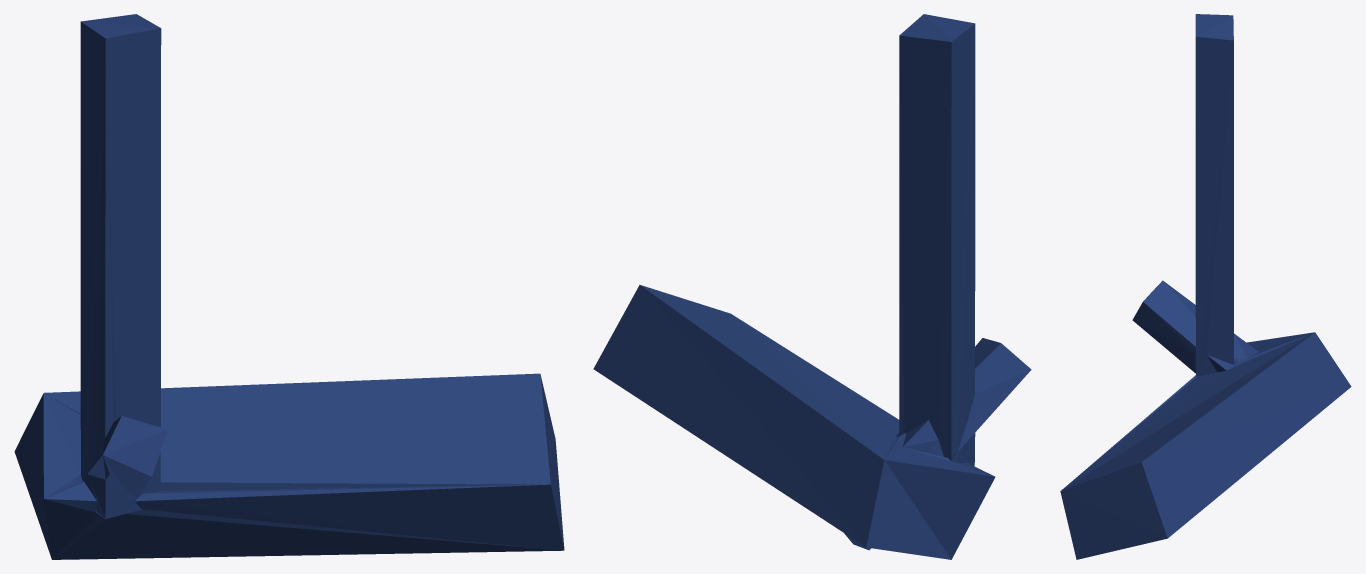
3 views of the same model, side by side, from view 1: azimuth 30°, elevation 25°; view 2: azimuth 150°, elevation 25°; view 3: azimuth 270°, elevation 25° (orthographic). The views are drawn at different scales.
Parts seen in each view (by area): view 1: 816_Cube.3289; view 2: 816_Cube.3289; view 3: 816_Cube.3289.
Boxes of the visible parts, x1=… form: 816_Cube.3289: x1=14, y1=14, x2=564, y2=559; 816_Cube.3289: x1=593, y1=14, x2=1031, y2=559; 816_Cube.3289: x1=1060, y1=14, x2=1351, y2=559.
Size of the model in its own units: 12.47 by 13.78 by 8.91.
